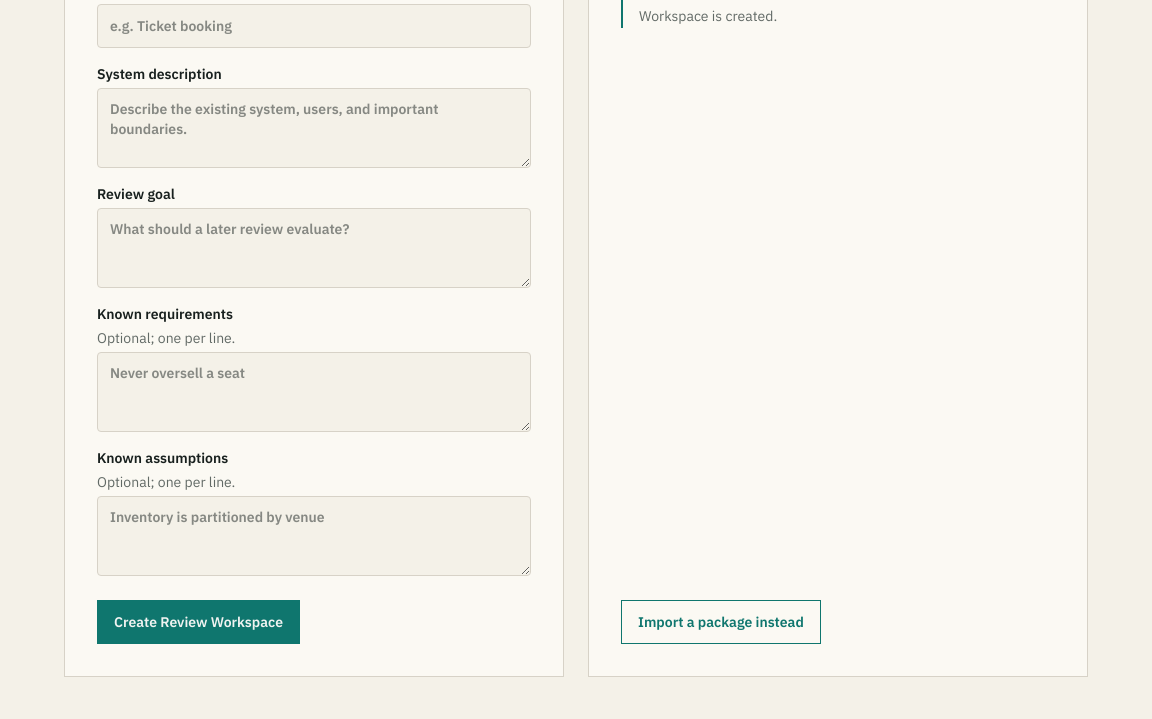
Test: ArchitectureReviewEntry › shows boundary validation before creating a Workspace
(page scrolled)
Click the button "Create Review Workspace": (198, 622) [97,600,300,644]
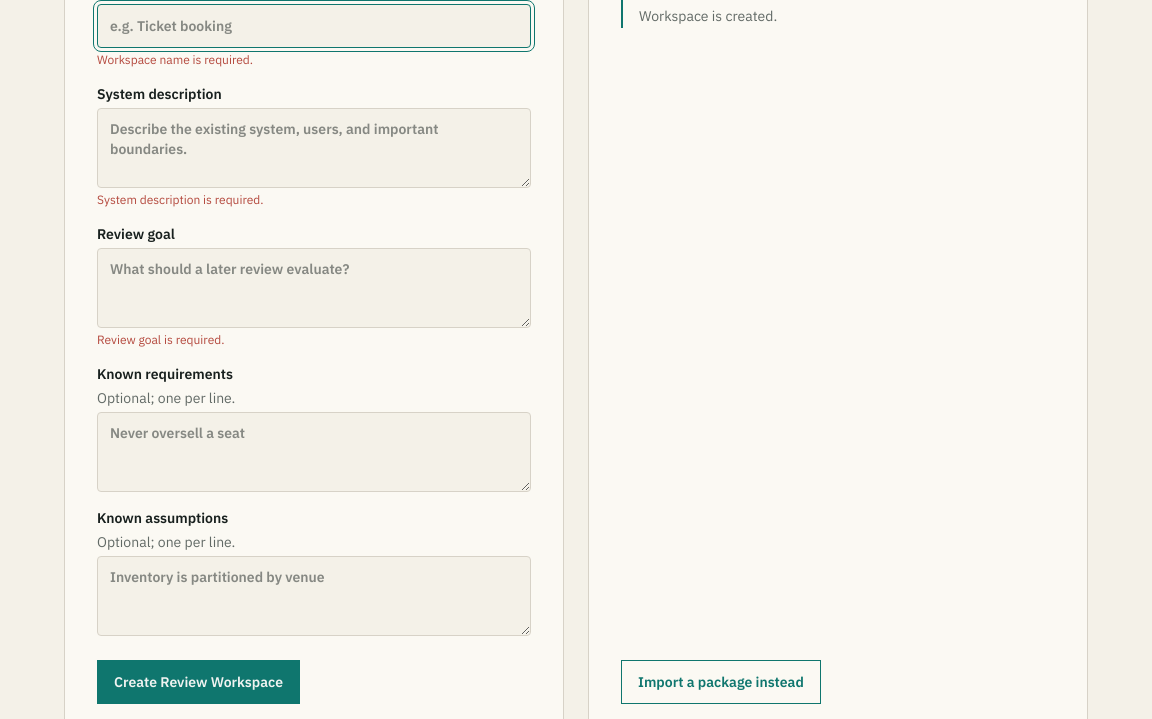
Result: the text "Workspace name is required." is shown at [97,52,253,67]
